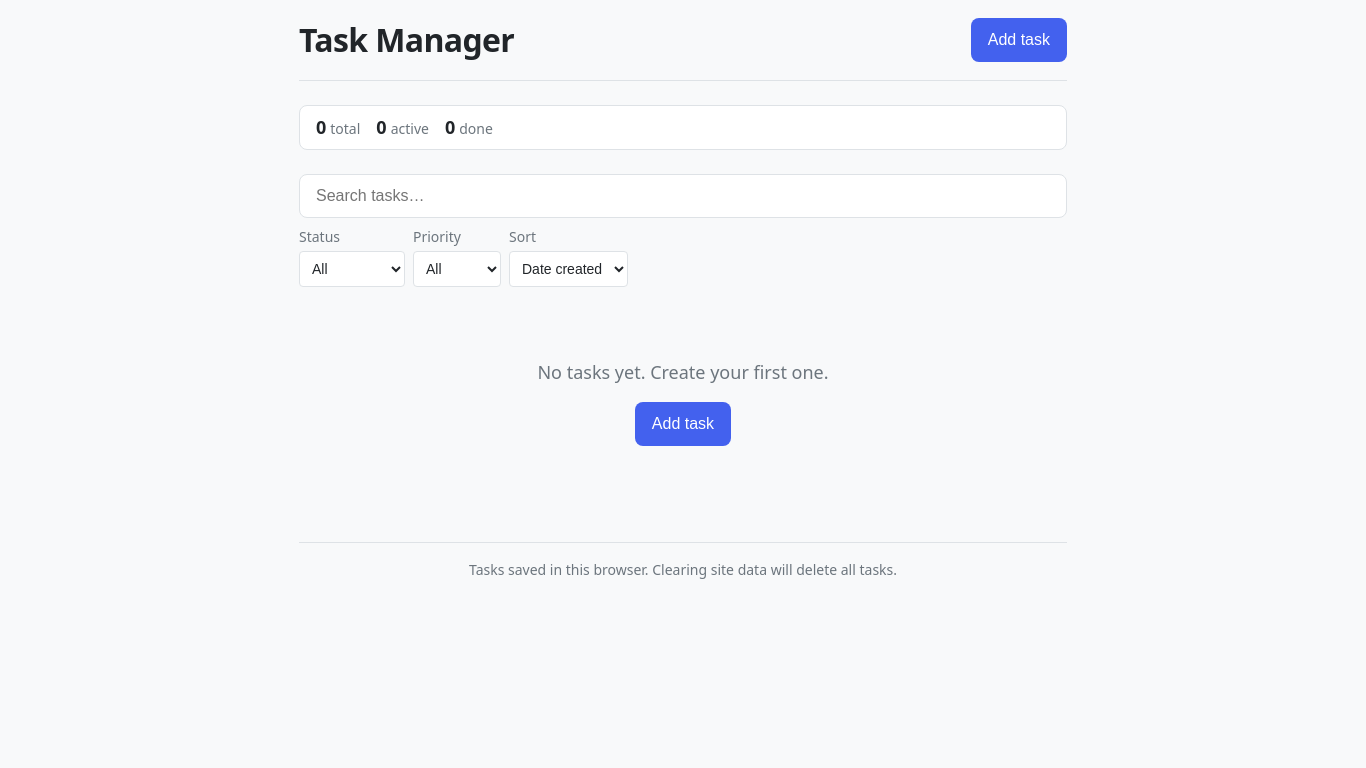
Test: App integration › edits a task
Click the button "Add task" in the row of "Task Manager".
click(1019, 40)  # box 971,18 -> 1067,62
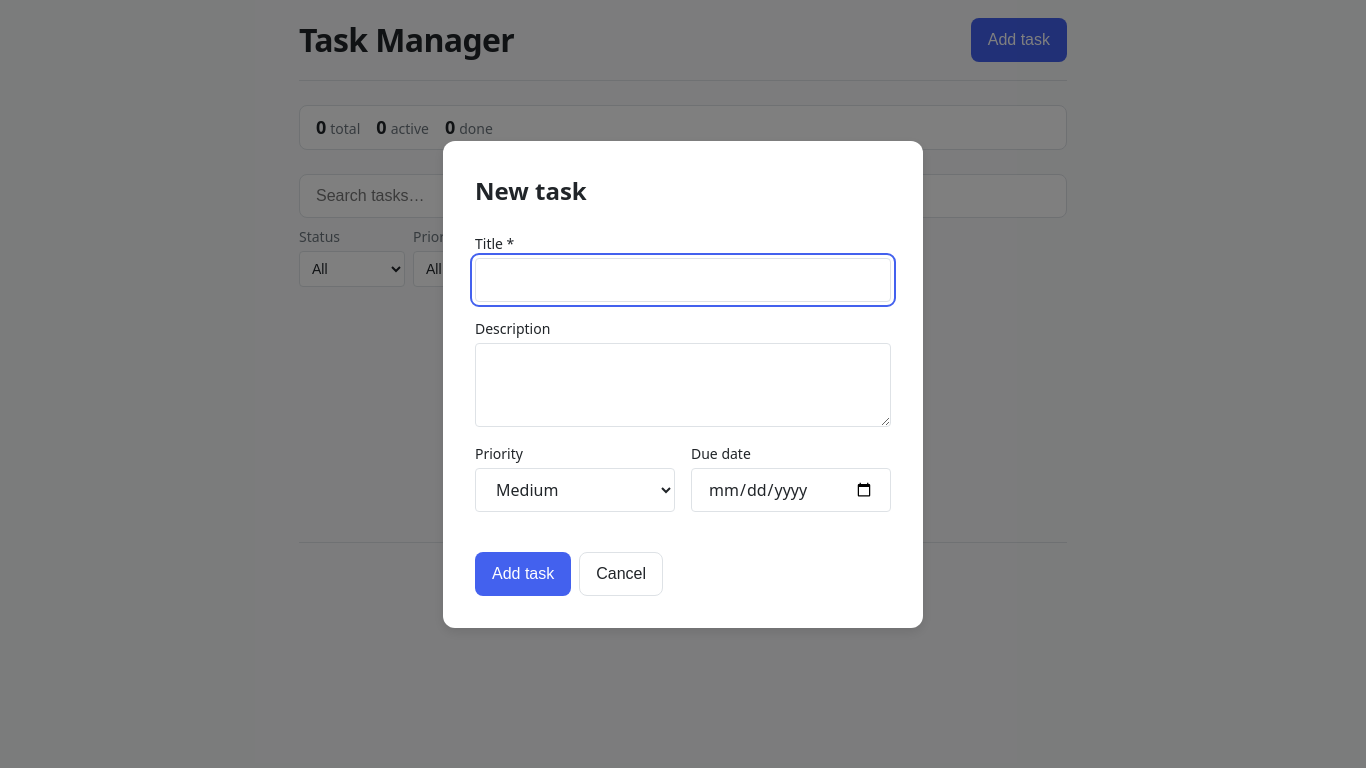
Type "Original title" into the field labelled "Title *".
click(683, 280); type("Original title")  # box 475,258 -> 891,302
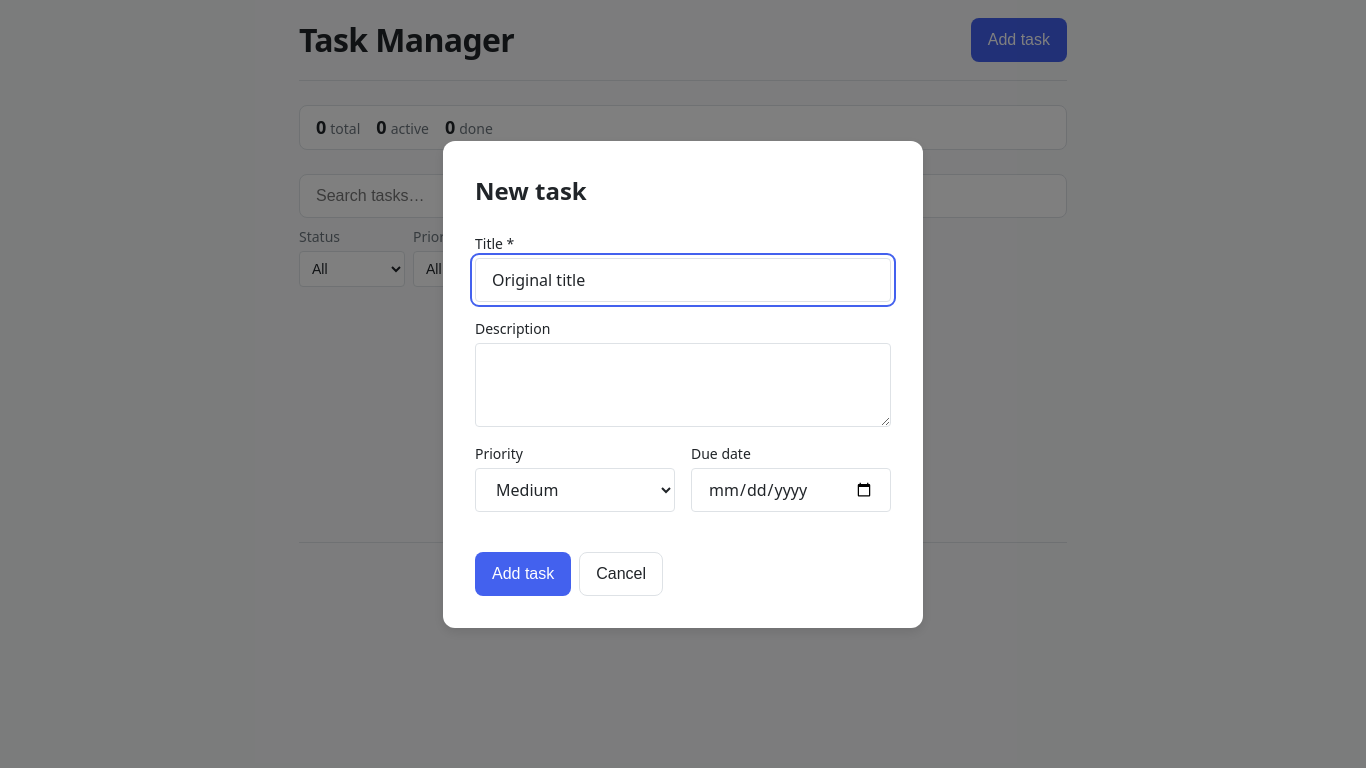
Click the button "Add task".
click(523, 574)  # box 475,552 -> 571,596
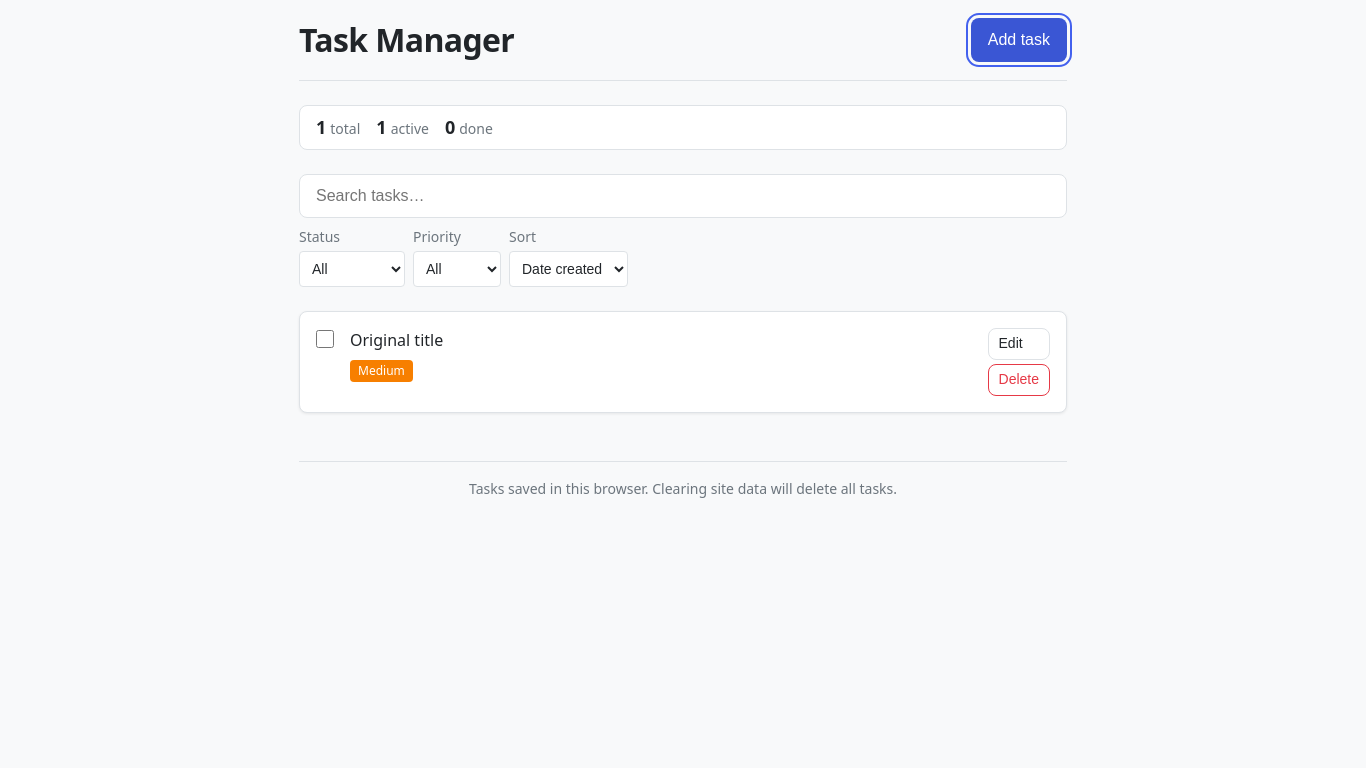
Click the button with aria-label "edit task: original title".
click(1019, 344)  # box 988,328 -> 1050,360
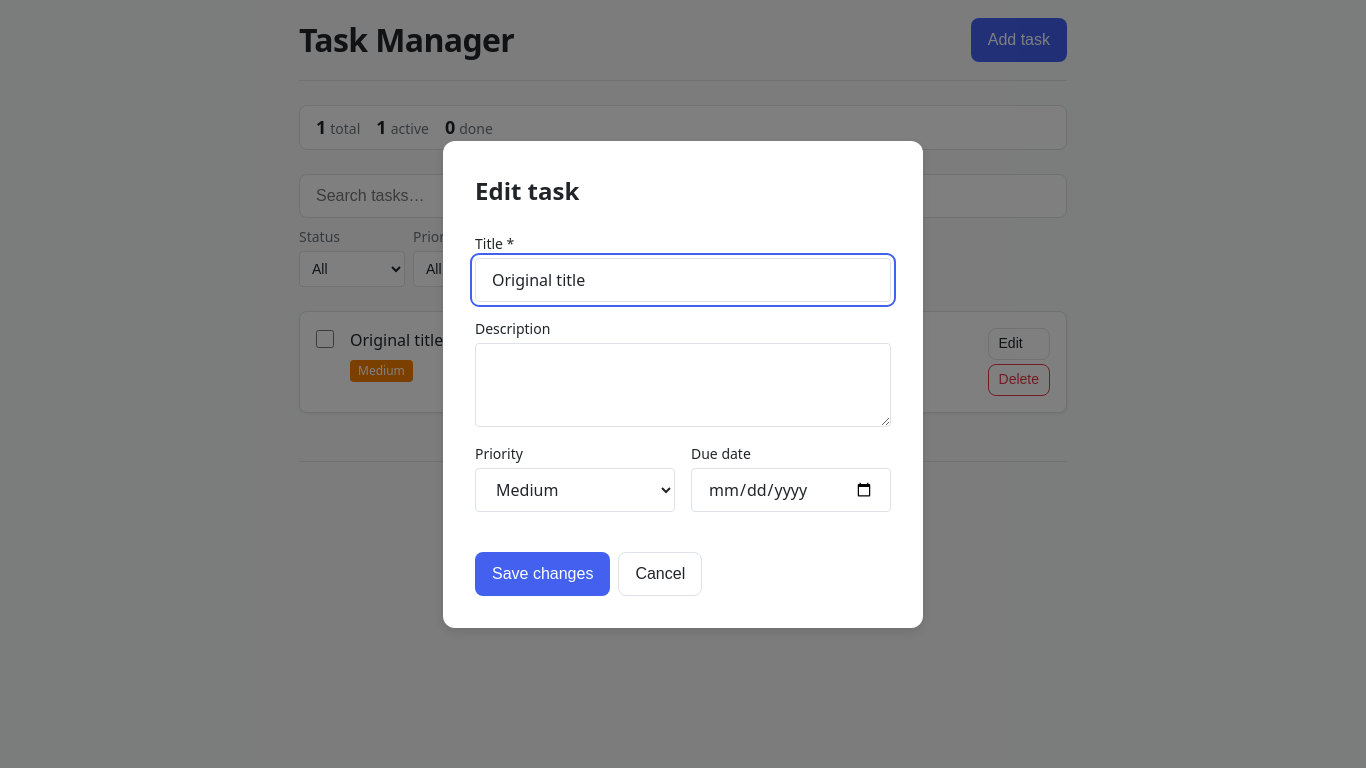
Replace the text in the field labelled "Title *" with "Updated title" at [683, 280], box 475,258 -> 891,302
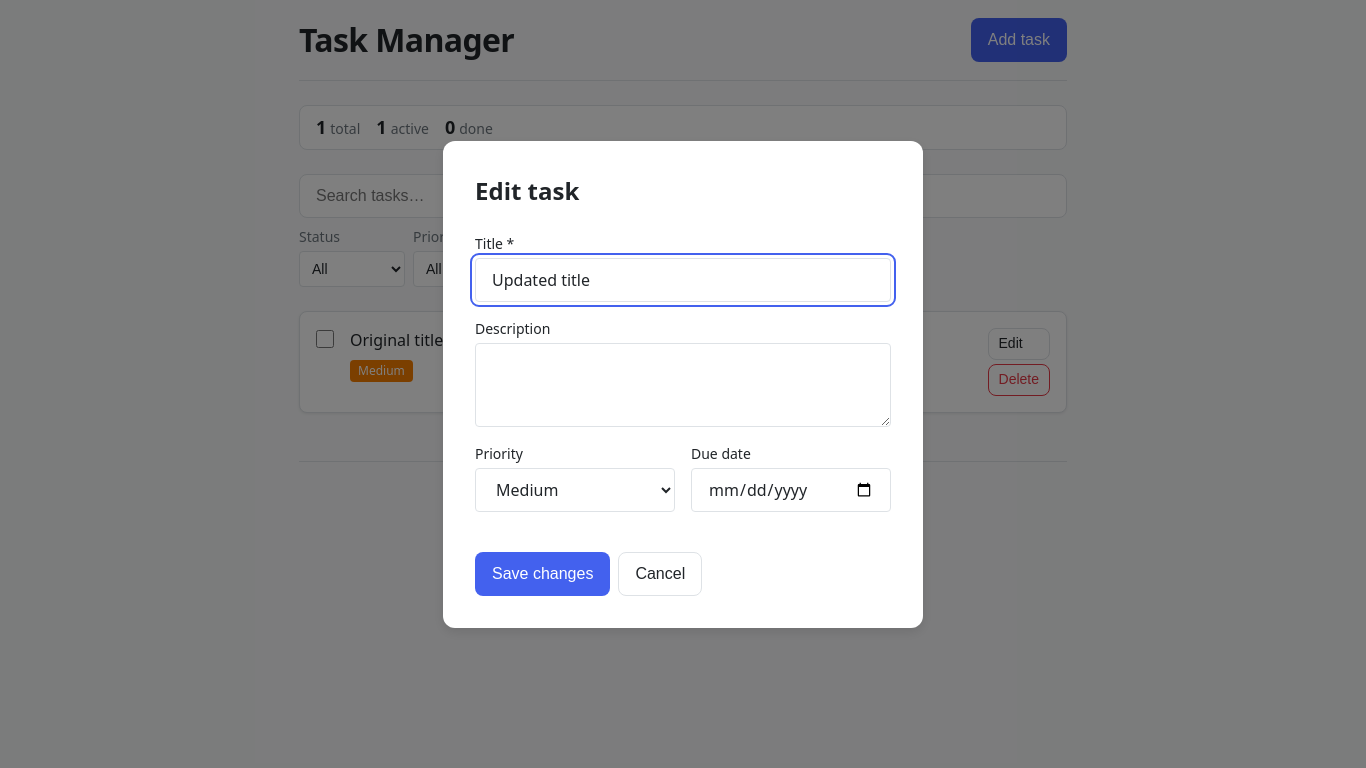
Click the button "Save changes".
click(543, 574)  # box 475,552 -> 610,596
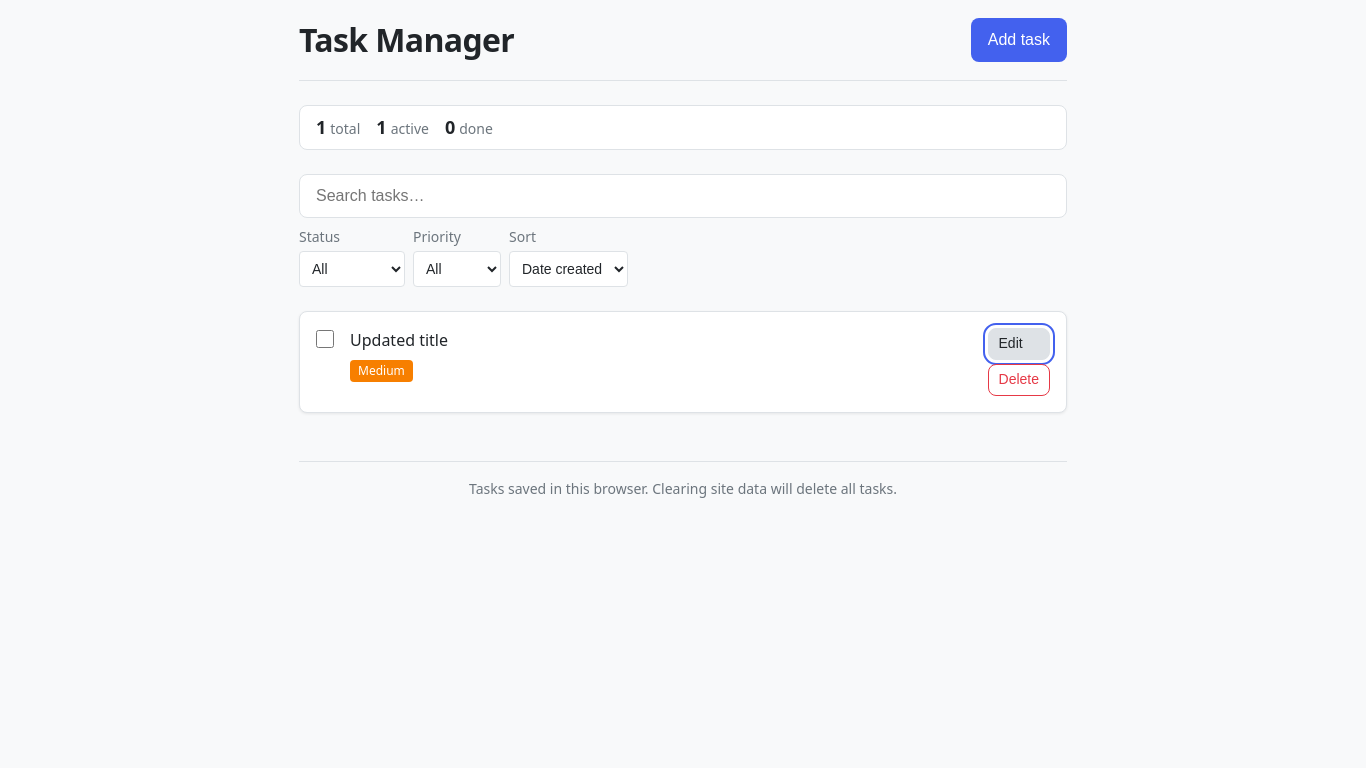
Result: the text "Updated title" is shown at 350,329 -> 448,351
Result: the text "Original title" is gone
